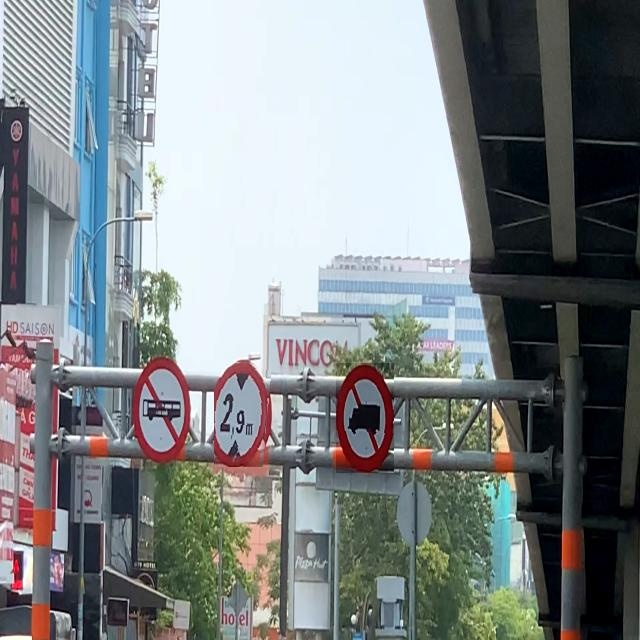bien_cam: (336, 363, 394, 473), (215, 360, 272, 467)
